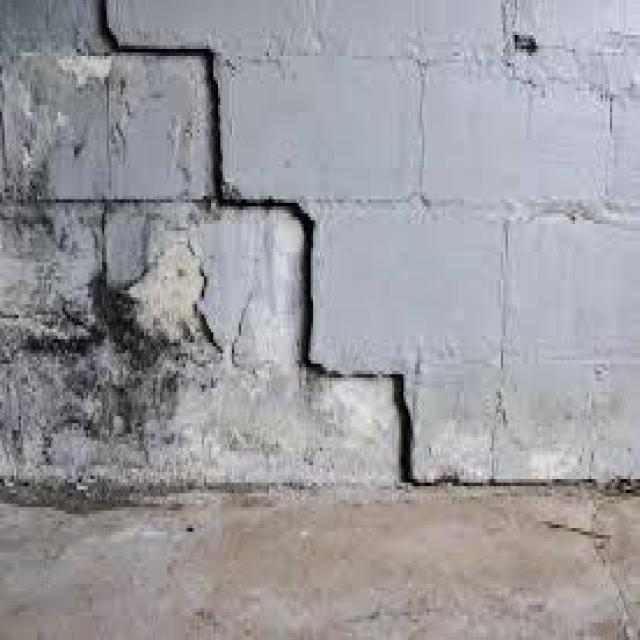Crack: (92, 0, 638, 490)
